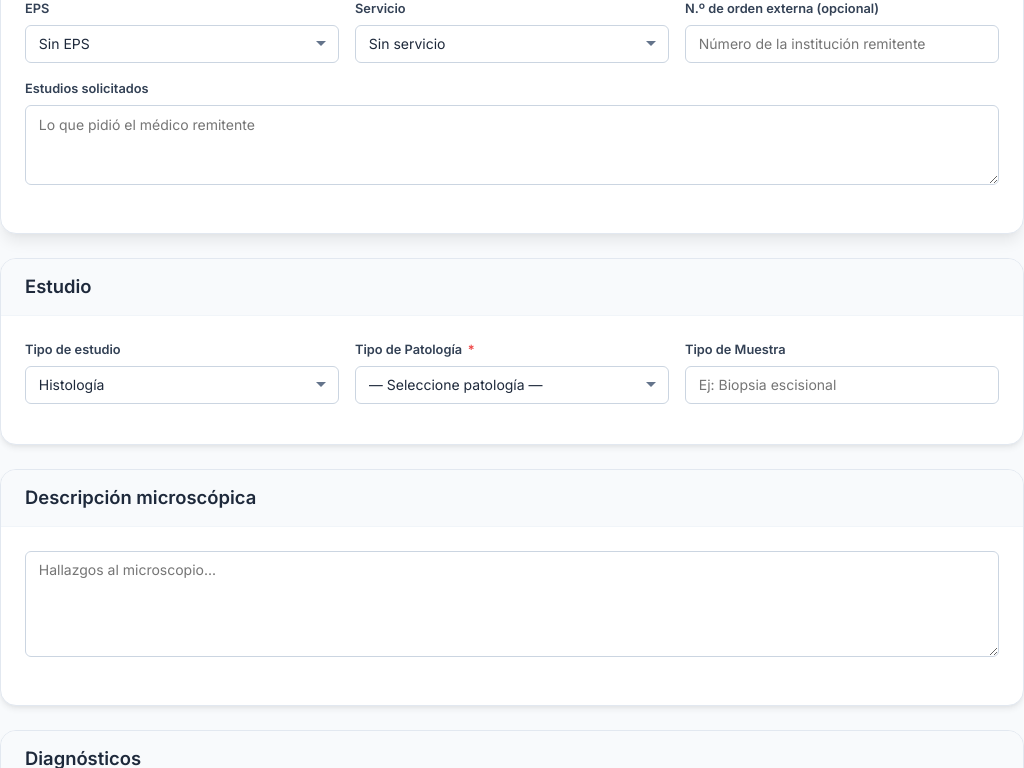
Test: InformePage: paciente y datos de la solicitud › no deja guardar sin paciente
This screenshot has width=1024, height=768.
(page scrolled)
Select "Piel" in the dropdown labelled "Tipo de Patología *" at (512, 385), box [355, 366, 669, 404]
(page scrolled)
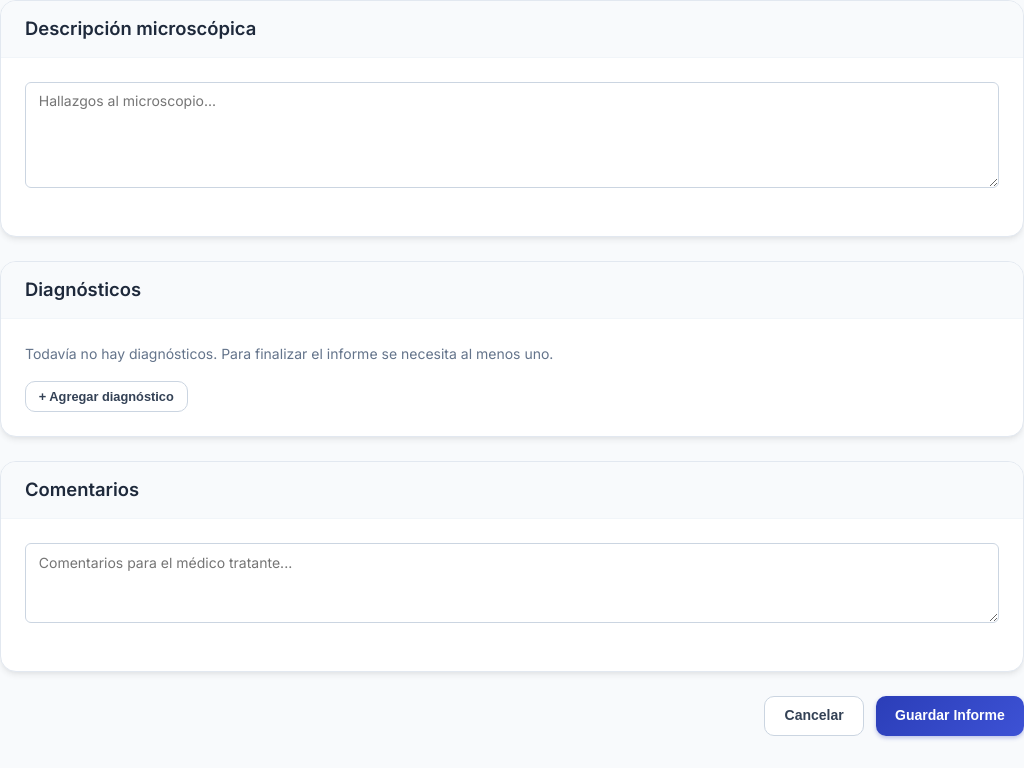
Click the button "Guardar Informe".
click(950, 716)  # box [876, 696, 1023, 736]
(page scrolled)
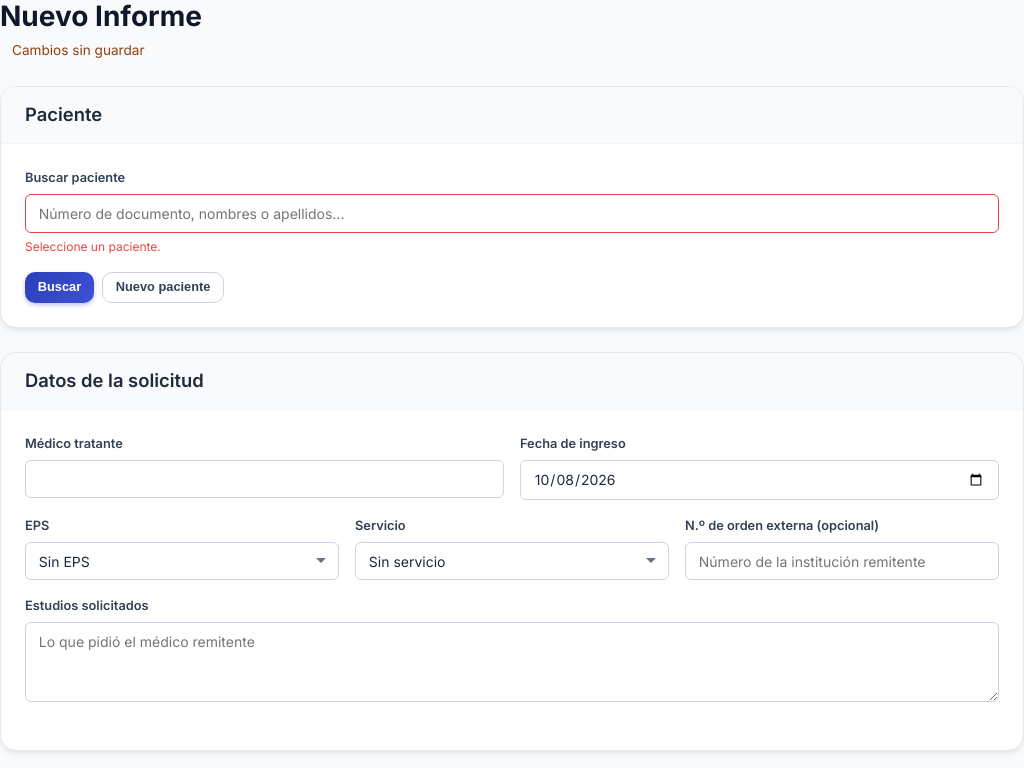
Check: the text "Seleccione un paciente." is shown, box [25, 238, 161, 254]
